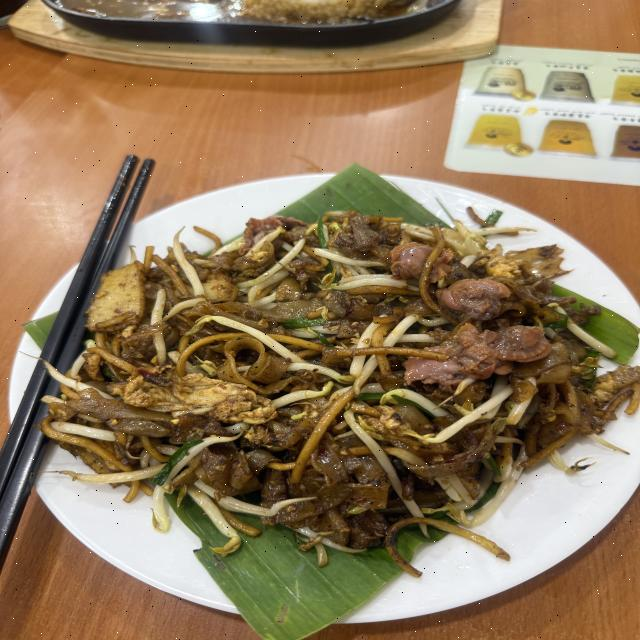Char Kway Teow: (31, 160, 601, 592)
